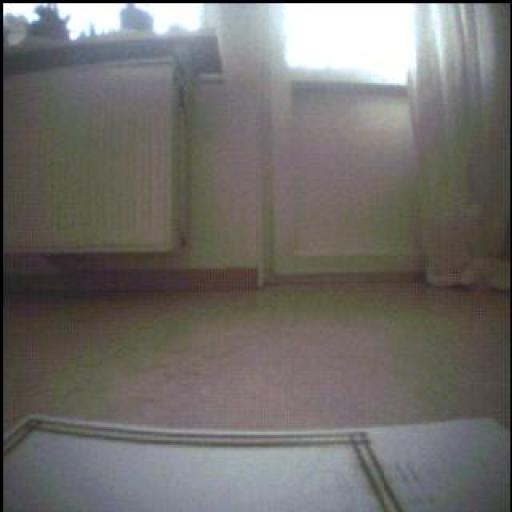Pad: (5, 415, 512, 512)
